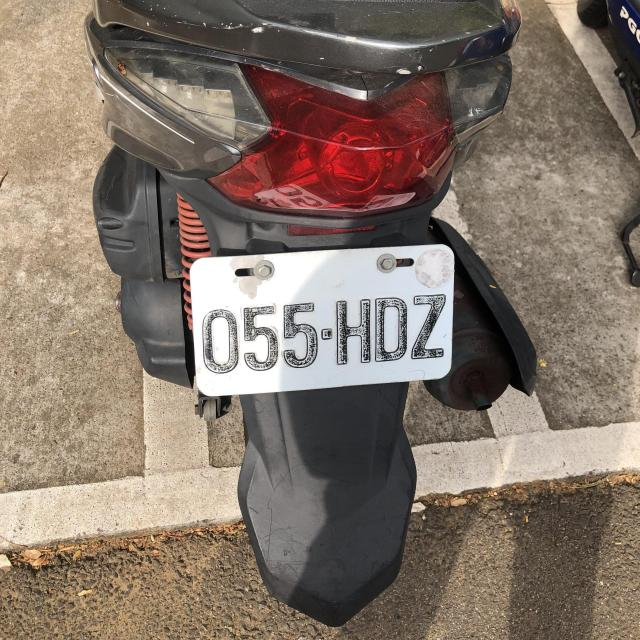W: (186, 241, 454, 396)
